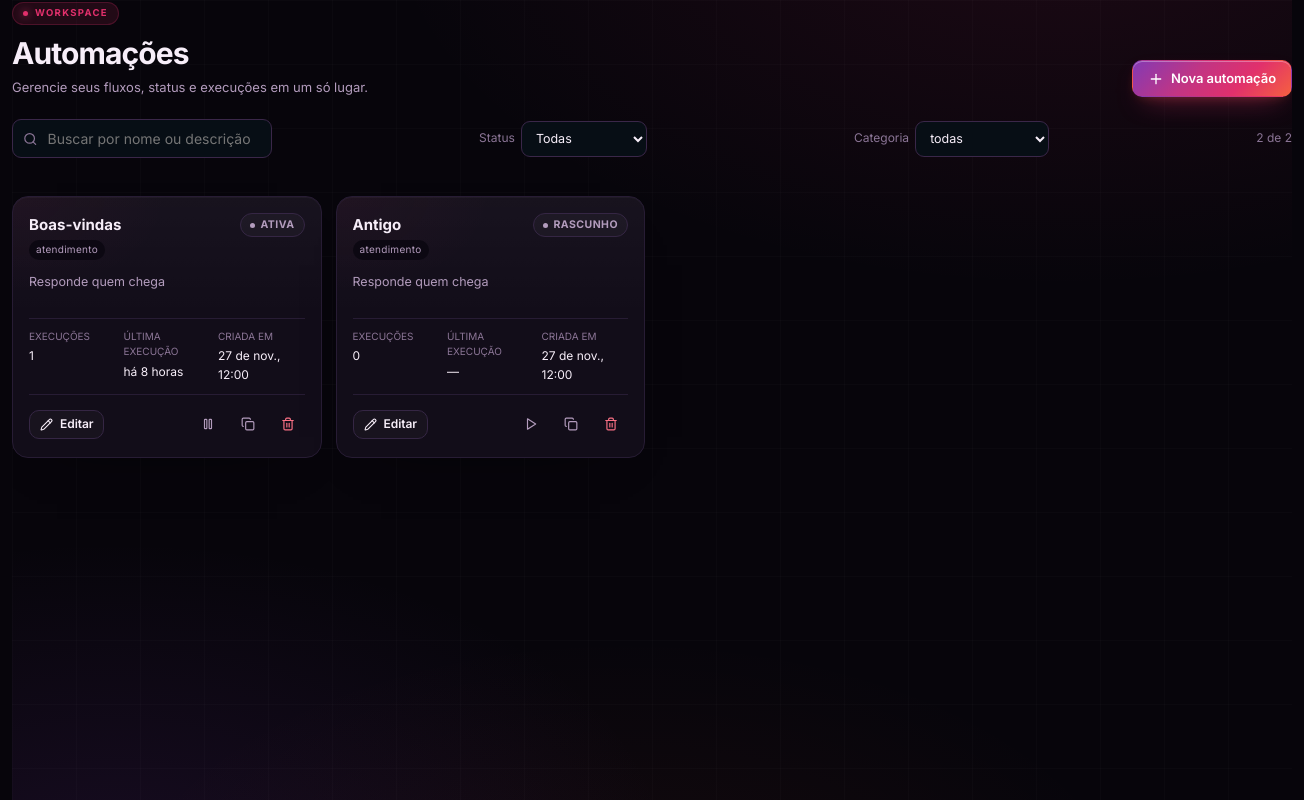
it: Automações › lista fluxos com status derivado e filtra por busca
The width and height of the screenshot is (1304, 800).
Expected: the heading "Boas-vindas" is shown, [29,213,121,236]
Expected: the heading "Antigo" is shown, [352,215,401,234]
Type "Antigo" into the field with placeholder "Buscar por nome ou descrição" at (153,138), box [46,120,261,157]
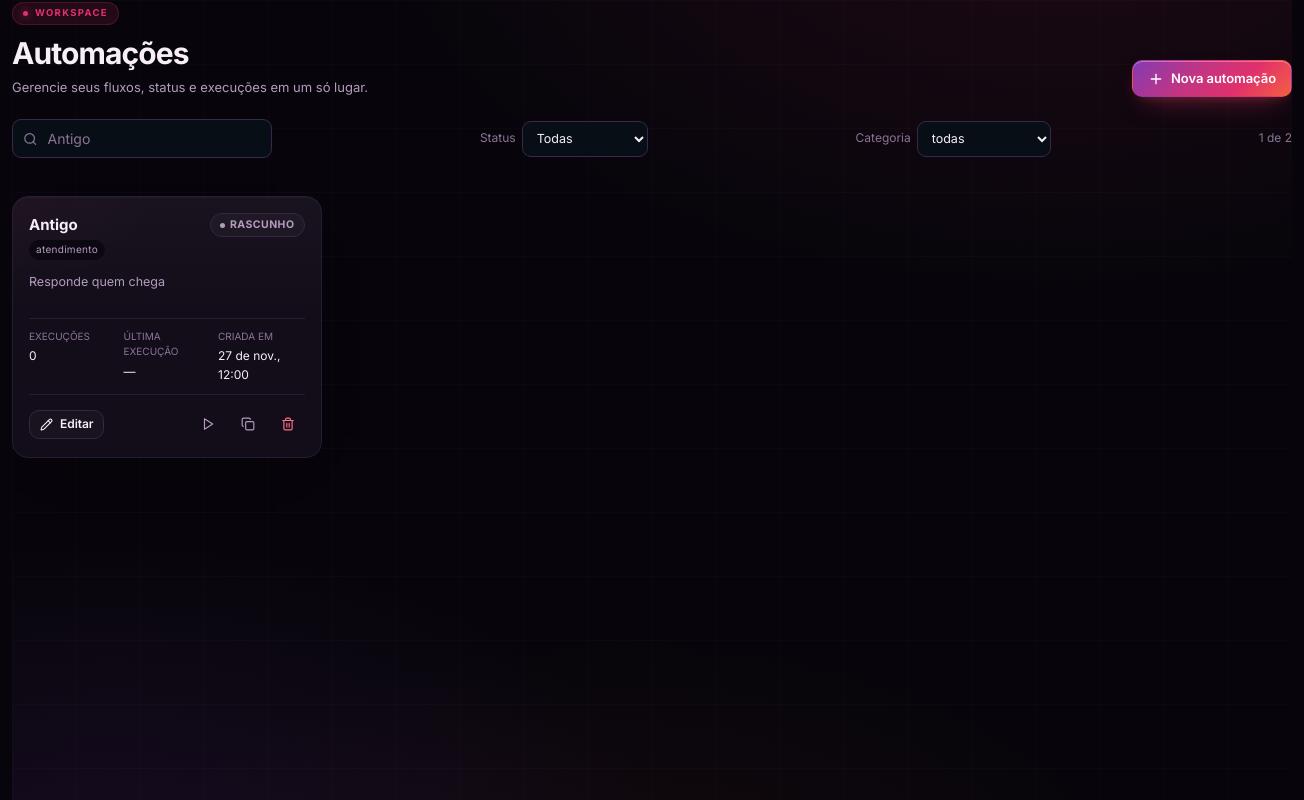
Expected: the heading "Antigo" is shown, [29,215,78,234]
Expected: the heading "Boas-vindas" is gone
